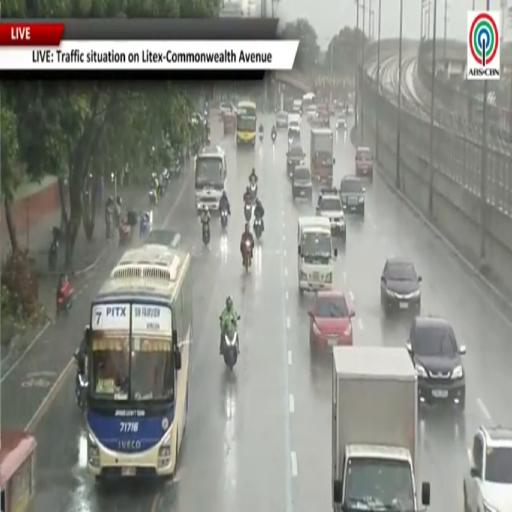bus: (87, 245, 193, 479), (236, 101, 257, 146), (303, 92, 316, 115)
car: (407, 316, 465, 410), (463, 426, 511, 511), (309, 291, 354, 349), (381, 258, 422, 314), (316, 188, 346, 243), (340, 175, 365, 216), (292, 163, 312, 201), (145, 229, 181, 248), (287, 141, 305, 179), (355, 147, 373, 181), (310, 117, 329, 129), (276, 111, 287, 129), (336, 112, 347, 130), (191, 112, 205, 125), (220, 103, 235, 115), (306, 105, 317, 120), (346, 102, 354, 116)
motorcycle: (74, 352, 88, 411), (223, 328, 238, 370), (56, 284, 74, 316), (48, 227, 61, 271), (119, 221, 132, 246), (48, 239, 58, 271), (243, 240, 251, 271), (106, 210, 113, 239), (140, 215, 149, 237), (254, 217, 263, 239), (202, 222, 210, 246), (249, 182, 257, 202), (221, 208, 228, 229), (149, 188, 157, 205), (245, 202, 252, 221), (272, 132, 276, 142), (259, 132, 263, 141)
truck: (333, 346, 430, 511), (310, 127, 335, 186)
